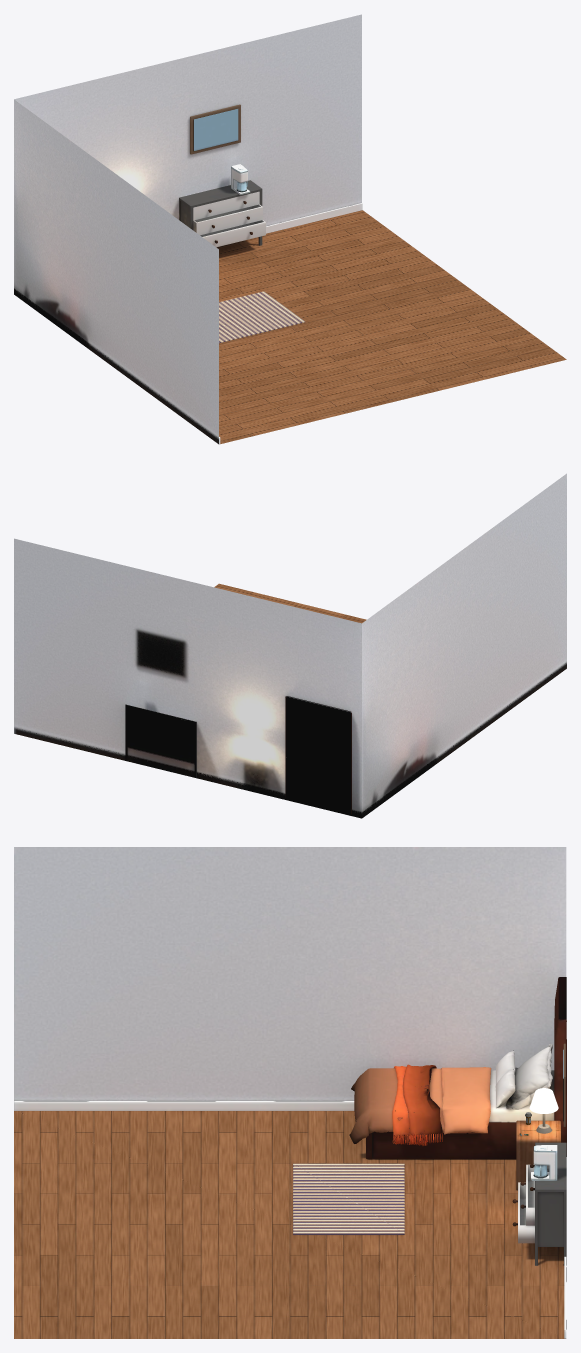
Rendered from escenario_tardio.glb.
The picture shows the model from 3 angles, top to bottom: view 1: azimuth 30°, elevation 25°; view 2: azimuth 150°, elevation 25°; view 3: azimuth 270°, elevation 25°; orthographic projection. The views are drawn at different scales.
Visible parts, largest first — view 1: Piso, Pared_fondo, Pared_izq, Mueble_Dresser, Alfombra, Cuadro, Zocalo_fondo, Cuadro_marco; view 2: Pared_fondo, Pared_izq, Piso; view 3: Pared_izq, Piso, Mueble_SingleBed, Alfombra, Mueble_Dresser, Zocalo_izq, Mesa_noche, Mueble_KA_CoffeeMaker_V1.
Boxes of the visible parts, box(x1,y1,x2,y2) form: Piso: box(216, 210, 566, 443); Pared_fondo: box(14, 14, 361, 226); Pared_izq: box(14, 99, 218, 444); Mueble_Dresser: box(179, 180, 265, 247); Alfombra: box(219, 291, 305, 343); Cuadro: box(193, 109, 238, 150); Zocalo_fondo: box(266, 203, 362, 233); Cuadro_marco: box(190, 104, 240, 154); Pared_fondo: box(14, 538, 361, 818); Pared_izq: box(362, 473, 566, 818); Piso: box(214, 583, 366, 623); Pared_izq: box(14, 847, 566, 1100); Piso: box(14, 1111, 565, 1338); Mueble_SingleBed: box(349, 977, 566, 1158); Alfombra: box(293, 1163, 404, 1234); Mueble_Dresser: box(512, 1142, 566, 1265); Zocalo_izq: box(14, 1101, 354, 1110); Mesa_noche: box(516, 1120, 560, 1190); Mueble_KA_CoffeeMaker_V1: box(531, 1145, 557, 1180).
Bounding box in the file's own units: 4.85 × 2.6 × 4.95.
Materials: 13 (12 with a texture image).
